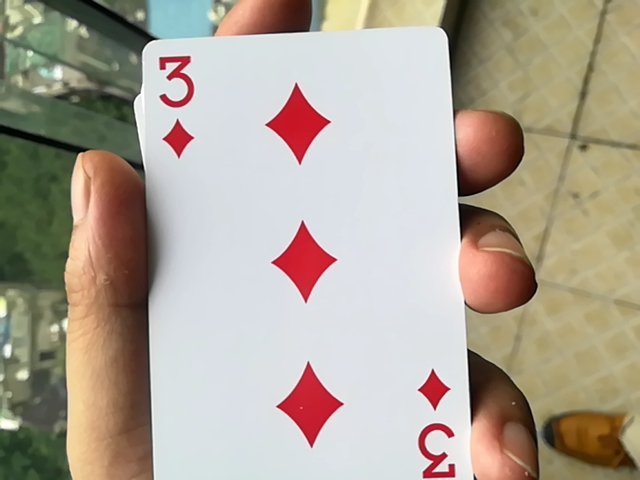fk 3: (113, 22, 474, 473)
